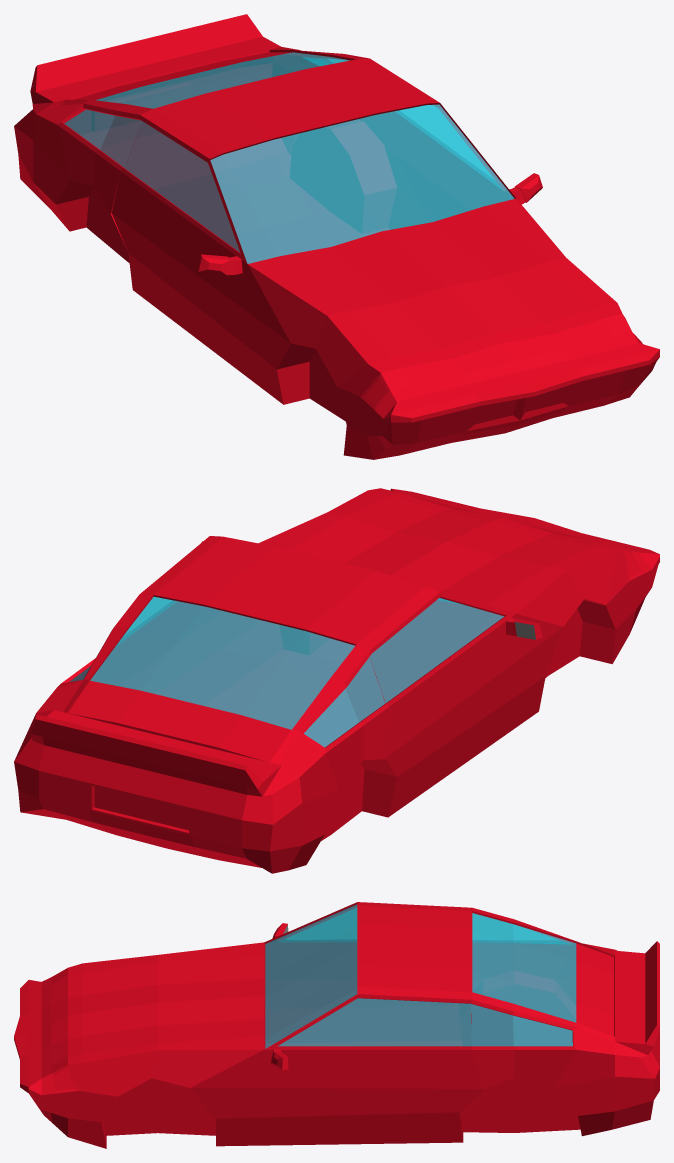
The model's file is car_2.fbx.
The picture shows the model from 3 angles, top to bottom: view 1: azimuth 30°, elevation 25°; view 2: azimuth 150°, elevation 25°; view 3: azimuth 270°, elevation 25°; orthographic projection. The views are drawn at different scales.
Parts seen in each view (by area): view 1: Car; view 2: Car; view 3: Car.
Part boxes in pixels (box(x1,y1,x2,y2)): Car: box(14, 14, 659, 459); Car: box(14, 488, 659, 873); Car: box(14, 902, 659, 1148).
Bounding box in the file's own units: 194 × 99.27 × 384.
